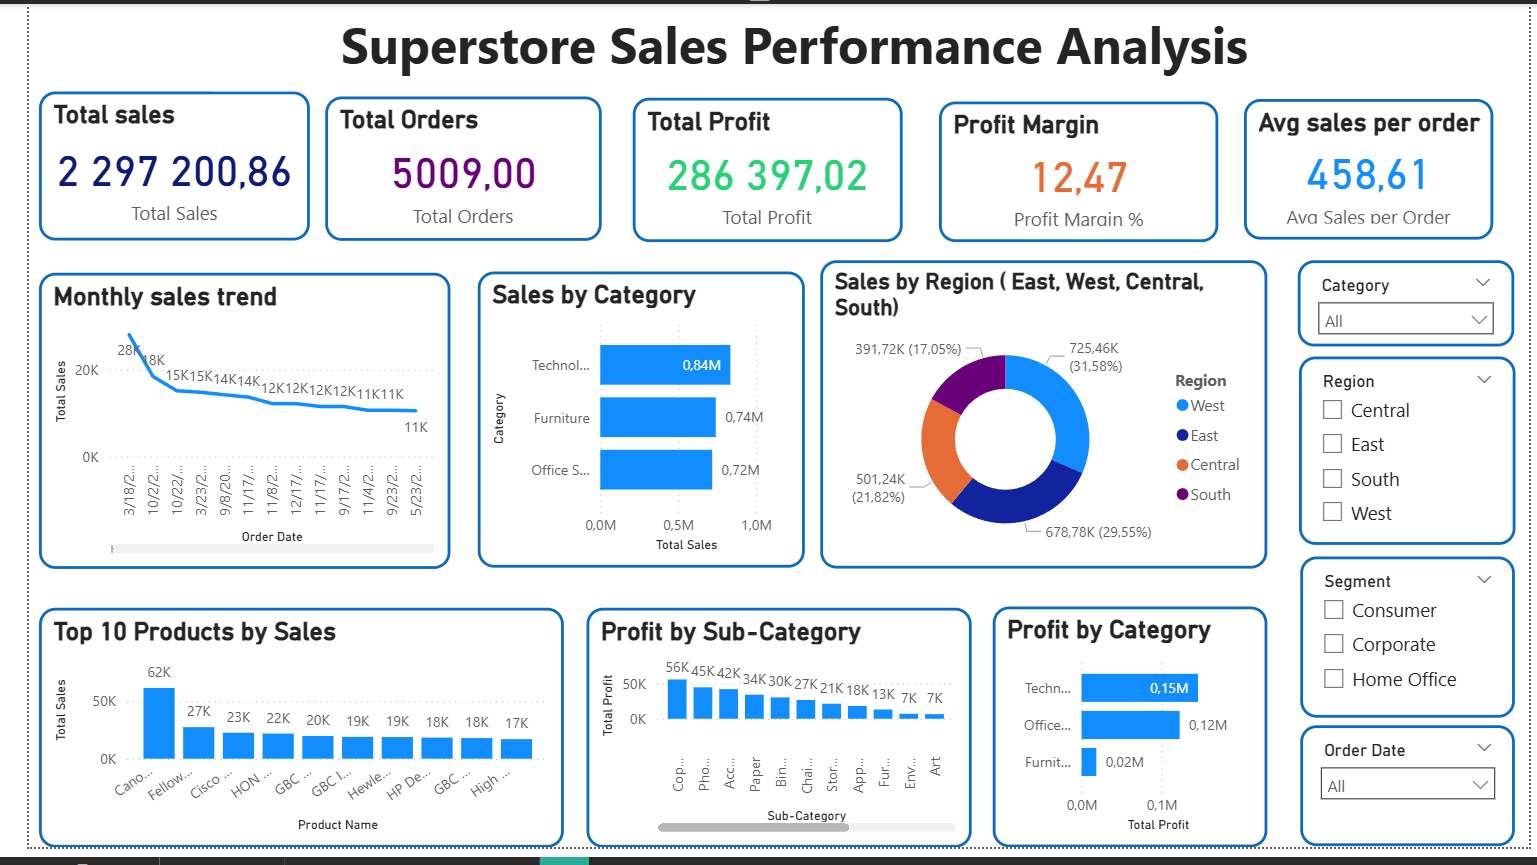

The page's visual inventory and layout, read from the dashboard file:
{"tool":"powerbi","page":{"name":"Dashboard","canvas":[1280,720],"ordinal":0},"visuals":[{"type":"card","title":"Total sales","fields":{"Values":["Sample - Superstore.Total Sales"]},"box":[8.5,74.7,231.5,127],"z":0},{"type":"card","title":"Total Profit","fields":{"Values":["Sample - Superstore.Total Profit"]},"box":[515.7,80,230,122.9],"z":1000},{"type":"card","title":"Avg sales per order","fields":{"Values":["Sample - Superstore.Avg Sales per Order"]},"box":[1037.1,81.4,212.9,120],"z":2000},{"type":"card","title":"Profit Margin","fields":{"Values":["Sample - Superstore.Profit Margin %"]},"box":[777.1,82.9,238.6,120],"z":3000},{"type":"card","title":"Total Orders","fields":{"Values":["Sample - Superstore.Total Orders"]},"box":[252.9,78.6,235.7,122.9],"z":4000},{"type":"lineChart","title":"Monthly sales trend","fields":{"Category":["Sample - Superstore.Order Date Hierarchy.Order Date"],"Y":["Sample - Superstore.Total Sales"]},"box":[8.5,229.4,351,252.9],"z":5000},{"type":"clusteredBarChart","title":"Sales by Category","fields":{"Category":["Sample - Superstore.Category"],"Y":["Sample - Superstore.Total Sales"]},"box":[383,228.3,279.6,252.9],"z":6000},{"type":"clusteredBarChart","title":"Profit by Category","fields":{"Category":["Sample - Superstore.Category"],"Y":["Sample - Superstore.Total Profit"]},"box":[822.9,514.3,234.3,205.7],"z":7000},{"type":"donutChart","title":"Sales by Region ( East, West, Central, South)","fields":{"Y":["Sample - Superstore.Total Sales"],"Category":["Sample - Superstore.Region"]},"box":[675.7,218.6,381.4,262.9],"z":8000},{"type":"slicer","fields":{"Values":["Sample - Superstore.Region"]},"box":[1084.1,300.9,184.6,161.1],"z":9000},{"type":"slicer","fields":{"Values":["Sample - Superstore.Category"]},"box":[1083,218.7,184.6,73.6],"z":10000},{"type":"slicer","fields":{"Values":["Sample - Superstore.Segment"]},"box":[1085.1,471.6,183.5,137.6],"z":11000},{"type":"slicer","fields":{"Values":["Sample - Superstore.Order Date"]},"box":[1085.1,615.7,183.5,103.5],"z":12000},{"type":"clusteredColumnChart","title":"Top 10 Products by Sales","fields":{"Category":["Sample - Superstore.Product Name"],"Y":["Sample - Superstore.Total Sales"]},"box":[8.5,515.4,448.1,204.9],"z":13000},{"type":"clusteredColumnChart","title":"Profit by Sub-Category","fields":{"Category":["Sample - Superstore.Sub-Category"],"Y":["Sample - Superstore.Total Profit"]},"box":[475.9,515.4,328.6,204.9],"z":14000},{"type":"textbox","box":[154.3,0,997.1,74.3],"z":15000}]}

Visuals, with their boxes in screenshot pixels (x1, y1, x2, y2), scaled from the page's 1280x720 canvas onto the 1537x865 screenshot:
"Total sales" card: rect(10, 90, 288, 242)
"Total Profit" card: rect(619, 96, 895, 244)
"Avg sales per order" card: rect(1245, 98, 1501, 242)
"Profit Margin" card: rect(933, 100, 1220, 244)
"Total Orders" card: rect(304, 94, 587, 242)
"Monthly sales trend" lineChart: rect(10, 276, 432, 579)
"Sales by Category" clusteredBarChart: rect(460, 274, 796, 578)
"Profit by Category" clusteredBarChart: rect(988, 618, 1269, 864)
"Sales by Region ( East, West, Central, South)" donutChart: rect(811, 263, 1269, 578)
slicer - Sample - Superstore.Region: rect(1302, 361, 1523, 555)
slicer - Sample - Superstore.Category: rect(1300, 263, 1522, 351)
slicer - Sample - Superstore.Segment: rect(1303, 567, 1523, 732)
slicer - Sample - Superstore.Order Date: rect(1303, 740, 1523, 864)
"Top 10 Products by Sales" clusteredColumnChart: rect(10, 619, 548, 864)
"Profit by Sub-Category" clusteredColumnChart: rect(571, 619, 966, 864)
textbox: rect(185, 0, 1383, 89)
